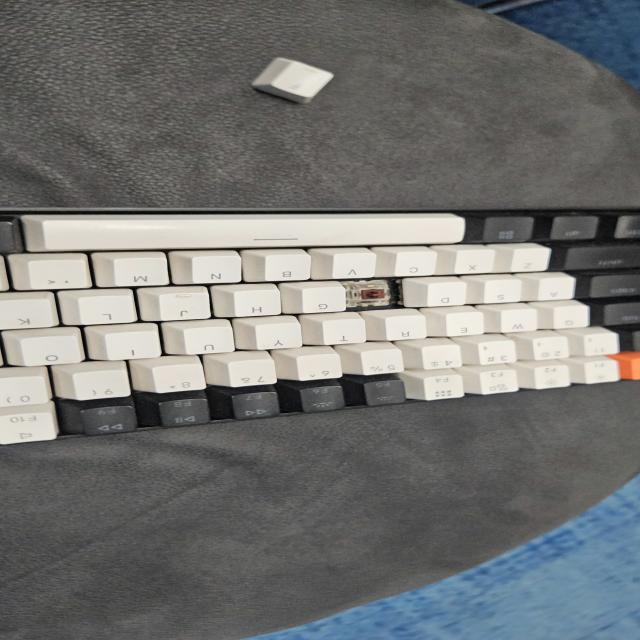C: (349, 284, 400, 306)
